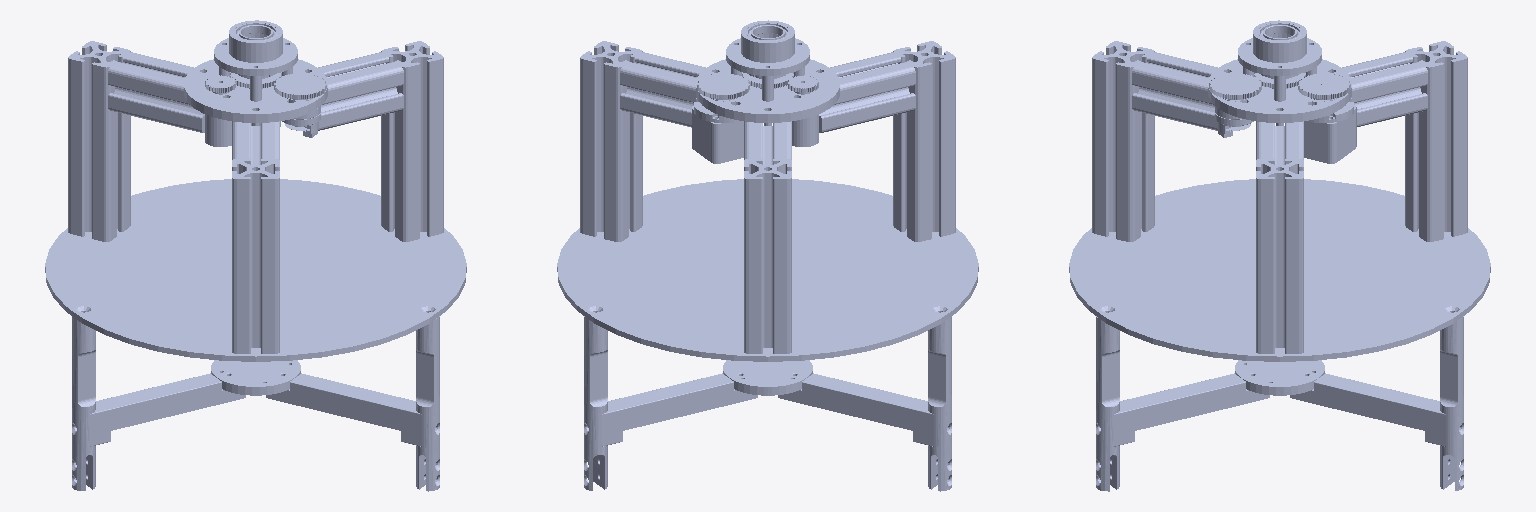
The robot description file, URDF, robot "pantilt":
<robot
  name="pantilt">
  <link
    name="camerabase_Link">
    <inertial>
      <origin
        xyz="0.00086946073426355 0.000760676023592356 0.053383812404842"
        rpy="0 0 0" />
      <mass
        value="1.77087801804482" />
      <inertia
        ixx="0.0221267132530347"
        ixy="-1.02123402825012E-05"
        ixz="-0.000197429877195084"
        iyy="0.0220664294803807"
        iyz="-0.000179571760966586"
        izz="0.016544737609366" />
    </inertial>
    <visual>
      <origin
        xyz="0 0 0"
        rpy="0 0 0" />
      <geometry>
        <mesh
          filename="package://pantilt/meshes/camerabase_Link.STL" />
      </geometry>
      <material
        name="">
        <color
          rgba="0.792156862745098 0.819607843137255 0.933333333333333 1" />
      </material>
    </visual>
    <collision>
      <origin
        xyz="0 0 0"
        rpy="0 0 0" />
      <geometry>
        <mesh
          filename="package://pantilt/meshes/camerabase_Link.STL" />
      </geometry>
    </collision>
  </link>
  <link
    name="camerholder_Link">
    <inertial>
      <origin
        xyz="0.0063349 1.674E-05 0.25969"
        rpy="0 0 0" />
      <mass
        value="0.061321" />
      <inertia
        ixx="7.6312E-05"
        ixy="-4.3702E-09"
        ixz="-1.0178E-05"
        iyy="7.7966E-05"
        iyz="-2.6895E-08"
        izz="1.6538E-06" />
    </inertial>
    <visual>
      <origin
        xyz="0 0 0"
        rpy="0 0 0" />
      <geometry>
        <mesh
          filename="package://pantilt/meshes/camerholder_Link.STL" />
      </geometry>
      <material
        name="">
        <color
          rgba="0 1 0 1" />
      </material>
    </visual>
    <collision>
      <origin
        xyz="0 0 0"
        rpy="0 0 0" />
      <geometry>
        <mesh
          filename="package://pantilt/meshes/camerholder_Link.STL" />
      </geometry>
    </collision>
  </link>
  <joint
    name="cameraholder_Joint"
    type="continuous">
    <origin
      xyz="0 0 0"
      rpy="0 0 0" />
    <parent
      link="camerabase_Link" />
    <child
      link="camerholder_Link" />
    <axis
      xyz="0 0 1" />
  </joint>
</robot>

--- Facts derived from the render (not from the file) ---
Views: 3 orthographic renders of the robot side by side, from view 1: azimuth 30°, elevation 25°; view 2: azimuth 150°, elevation 25°; view 3: azimuth 270°, elevation 25°.
Model pantilt with 2 links and 1 joints (1 continuous), rooted at camerabase_Link, posed every joint at zero.
Links seen in each view (by area): view 1: camerabase_Link; view 2: camerabase_Link; view 3: camerabase_Link.
Link boxes in pixels (bbox=[...]): camerabase_Link: bbox=[45, 20, 466, 491]; camerabase_Link: bbox=[557, 20, 978, 491]; camerabase_Link: bbox=[1069, 20, 1490, 491].
Size in the robot's own frame: 0.35 by 0.3497 by 0.3775 metres.
1 mesh visuals loaded from 2 distinct referenced files (1 binary STL); not drawn: 1 (reference not matched to a file when rendering).